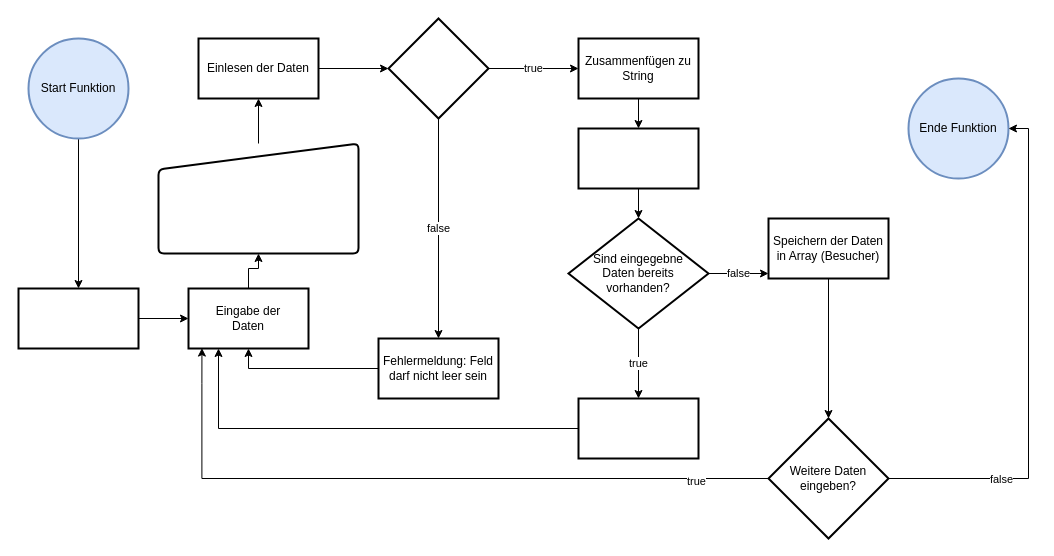
This 1054x556 diagram has some shape labels left out. The shapes that lost their labels are listed below. From the top down, each one's centre as x and y in pixels, then its label:
At pixel 438 68: "Daten vorhanden?".
At pixel 638 158: "Speichern temporär des Strings".
At pixel 258 198: "Vorname, Nachname, E-Mail, Telefonnr., Datum und Zeit des Besuchs".
At pixel 78 318: "Auswahl Besucherliste".
At pixel 638 428: "Fehlermeldung: Daten bereits vorhanden".
